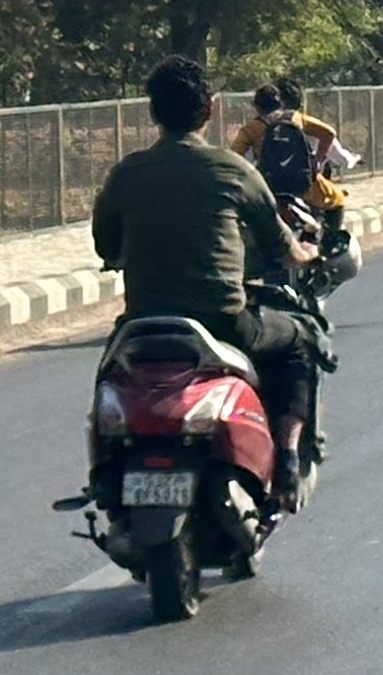BikeWithRider: (42, 48, 355, 633), (229, 76, 364, 309)
NoHelmet: (131, 48, 222, 145), (271, 77, 306, 115), (253, 80, 281, 116)
